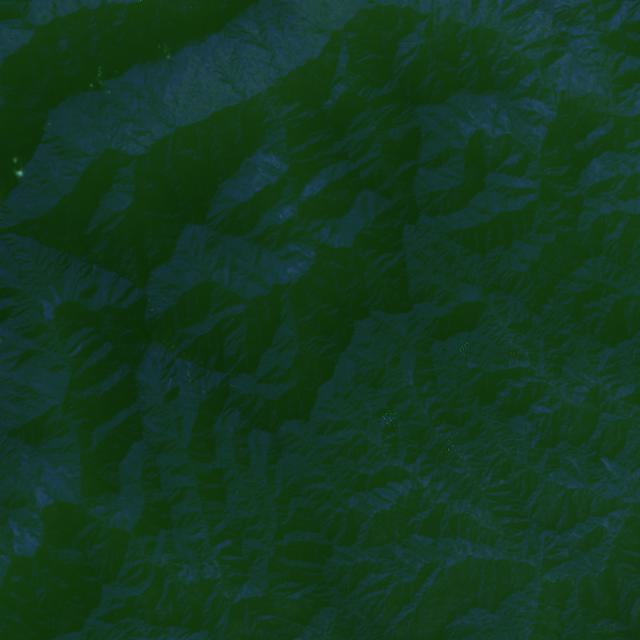landslides: (187, 361, 192, 381)
